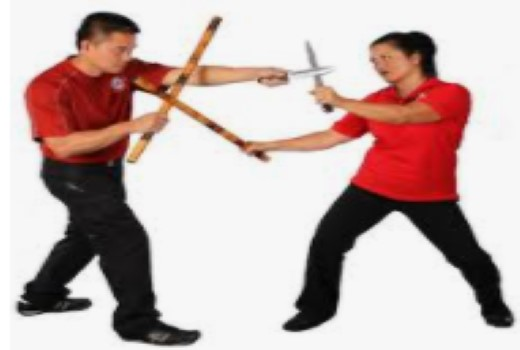baston_e: (144, 44, 210, 151), (180, 100, 244, 156)
baston_v: (119, 139, 140, 168), (251, 144, 274, 167), (129, 68, 145, 94), (208, 11, 226, 29)
